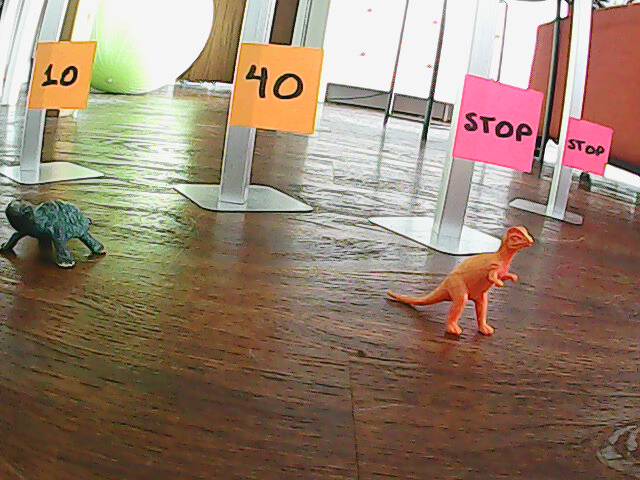10: (39, 46, 88, 110)
40: (236, 51, 314, 125)
dinosaur: (380, 219, 535, 347)
stop: (460, 92, 535, 158), (567, 127, 609, 168)
turtle: (1, 191, 110, 274)
